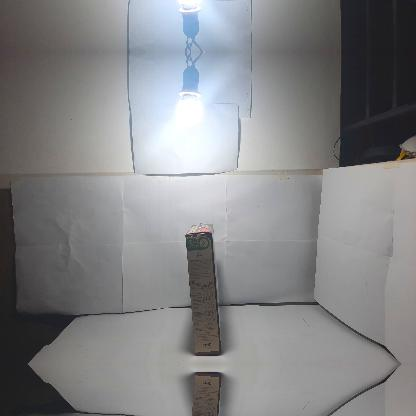Koko-Krunch: (184, 222, 224, 356), (184, 372, 224, 415)
